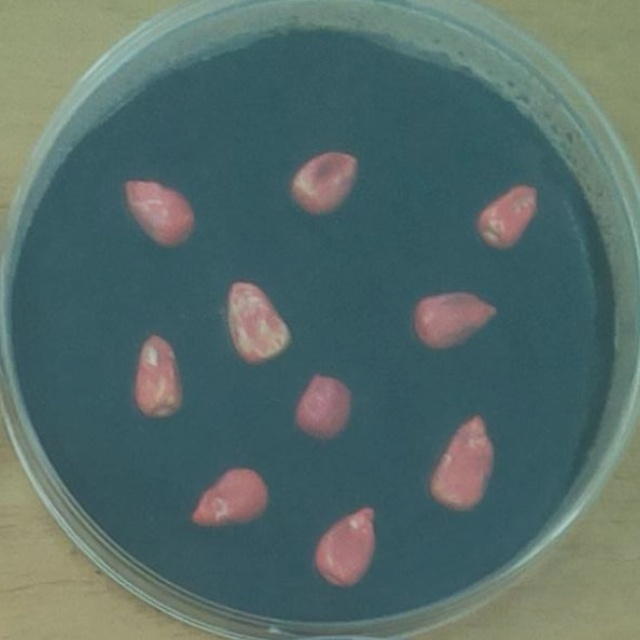Zea mays: (422, 410, 502, 519), (217, 273, 298, 373), (303, 500, 384, 596), (405, 284, 507, 360), (115, 172, 205, 256), (281, 143, 366, 225), (184, 460, 276, 534), (125, 327, 192, 428), (467, 175, 547, 256), (287, 367, 360, 451)
